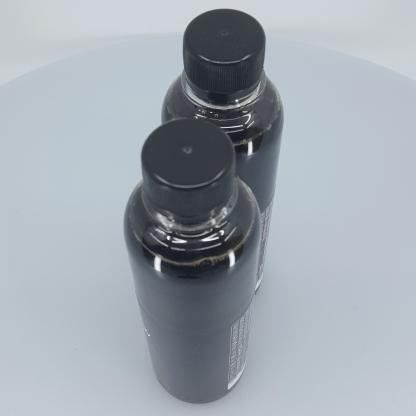--------------300ML: (123, 118, 262, 404), (160, 8, 285, 303)
